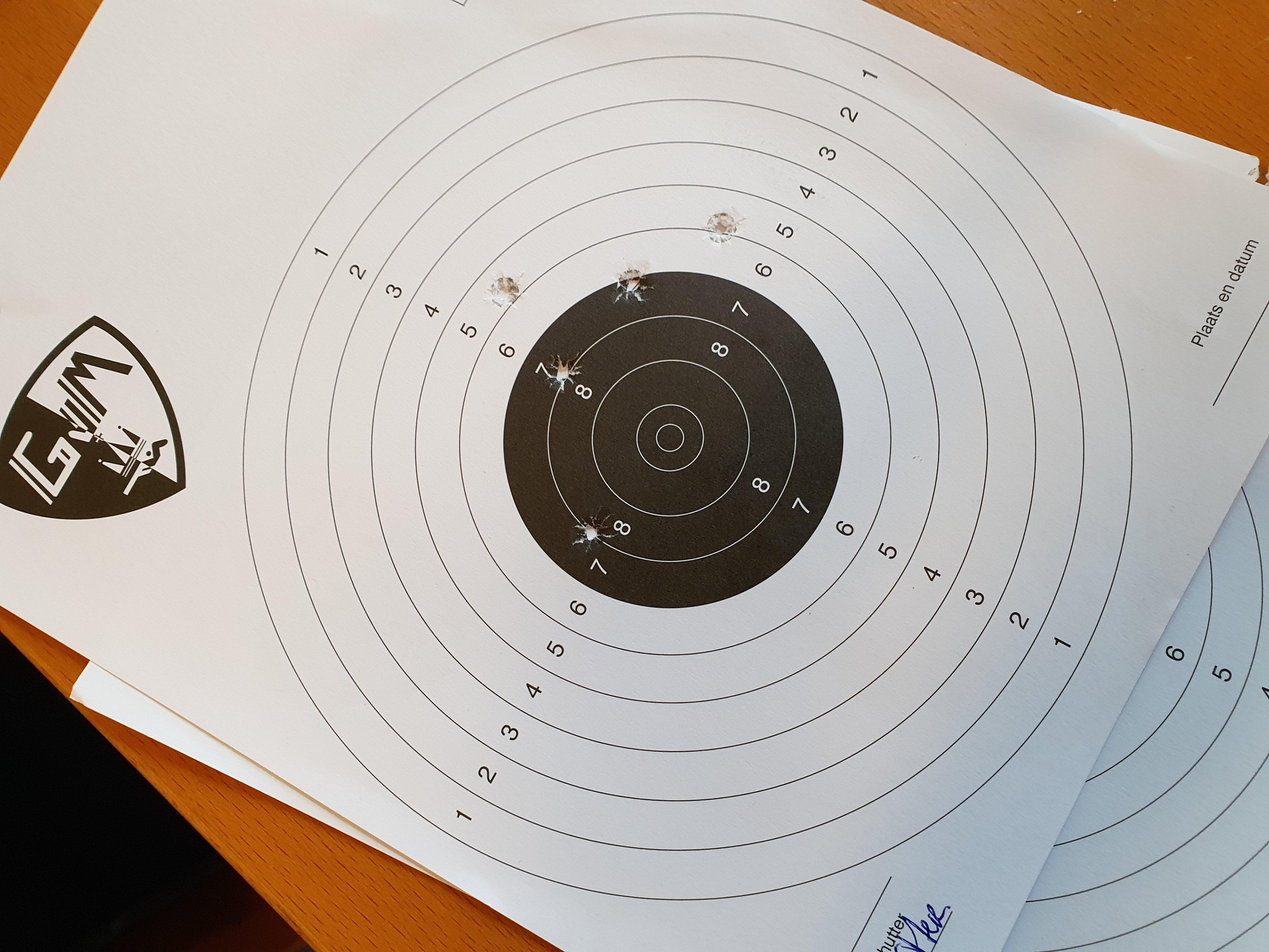hole: (860, 458, 920, 491), (530, 427, 594, 456), (745, 405, 800, 438), (849, 365, 912, 393), (943, 524, 994, 555)
